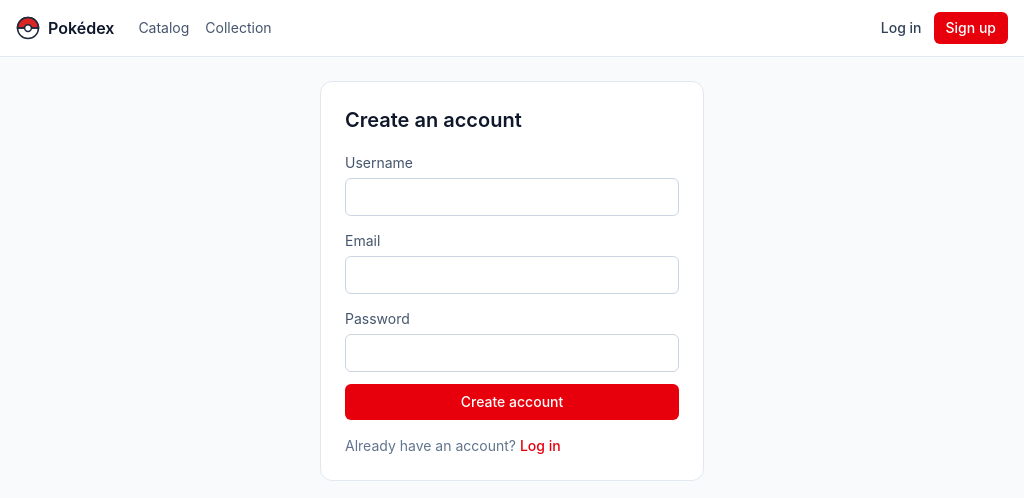
authentication › signs up, then is logged in straight away
Type "ash" into the field labelled "Username".
click(512, 197); type("ash")  # box [345,178,679,216]
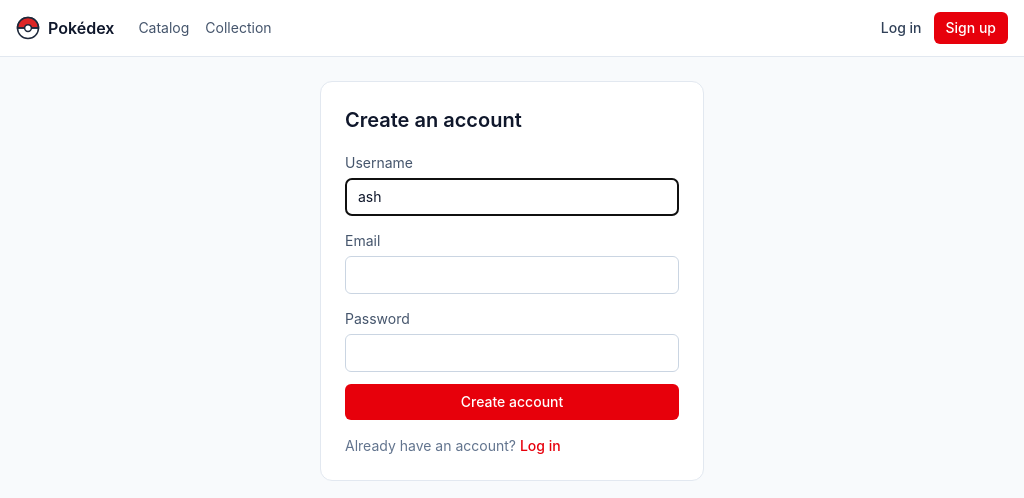
Type "ash@pallet.town" into the field labelled "Email".
click(512, 275); type("ash@pallet.town")  # box [345,256,679,294]
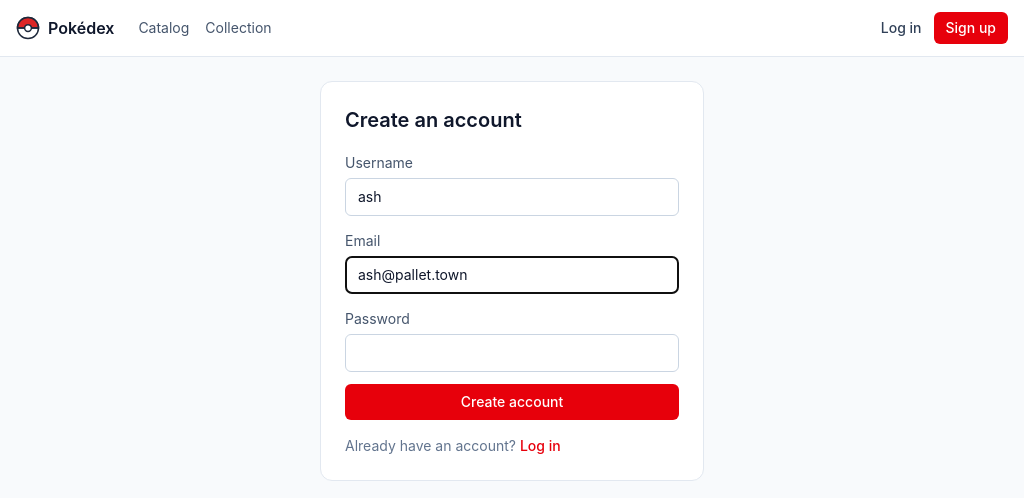
Type "pikachu123" into the password field labelled "Password".
click(512, 353); type("pikachu123")  # box [345,334,679,372]
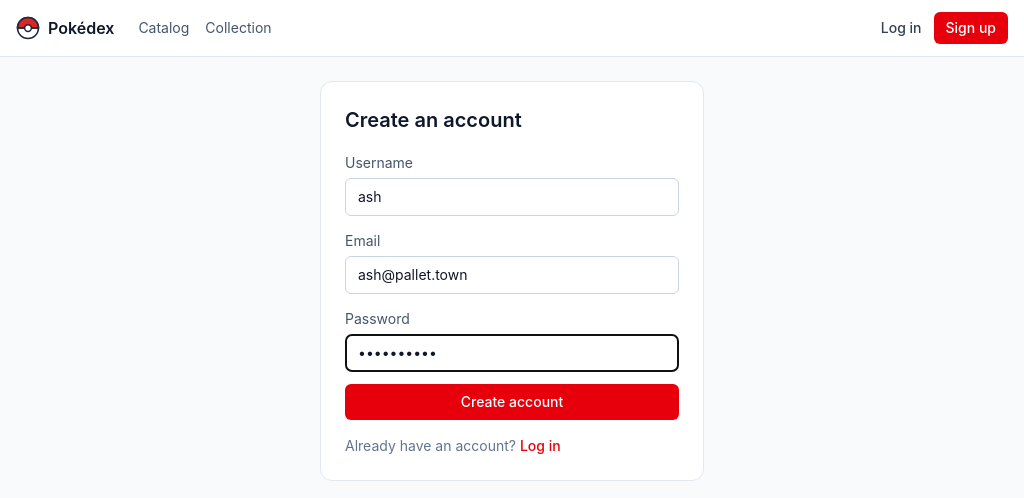
Click the button "Create account".
click(512, 402)  # box [345,384,679,420]
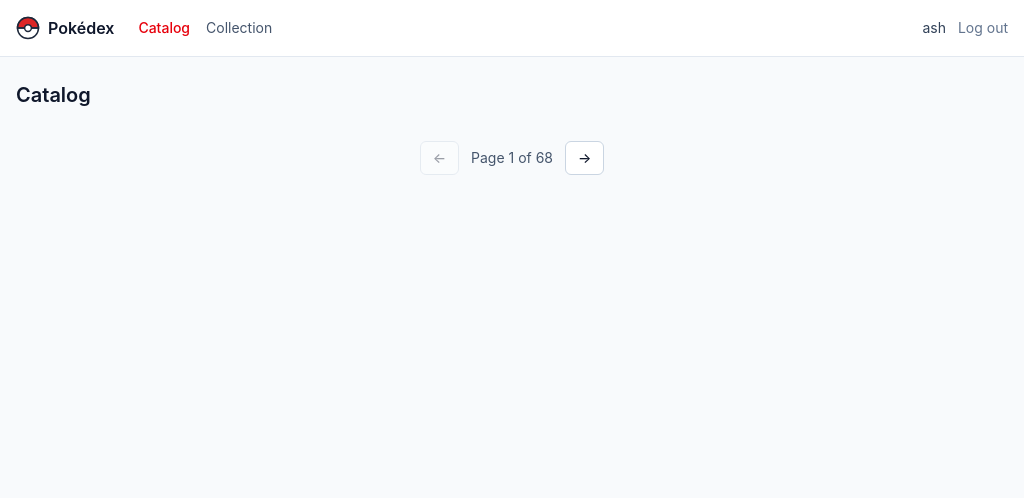
Result: the header shows "ash" at [922,19,946,36]
